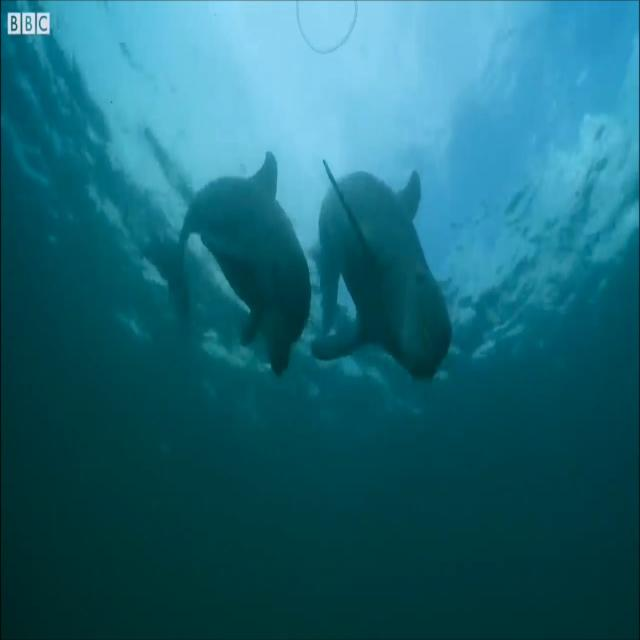Dolphin: (147, 147, 309, 380), (311, 162, 452, 377)
